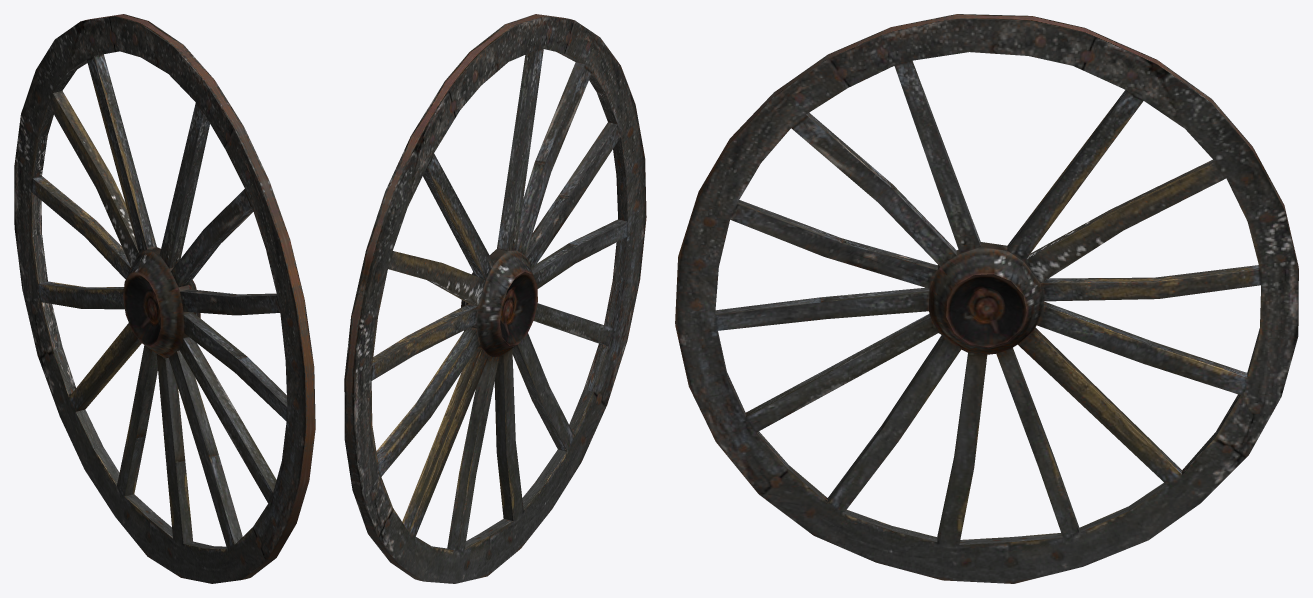
The model's file is Wheel_LOD01.fbx.
The picture shows the model from 3 angles, left to right: view 1: azimuth 30°, elevation 25°; view 2: azimuth 150°, elevation 25°; view 3: azimuth 270°, elevation 25°; orthographic projection. The views are drawn at different scales.
Visible parts, largest first — view 1: Mesh Object; view 2: Mesh Object; view 3: Mesh Object.
Part boxes in pixels (x1,y1,x2,y2): Mesh Object: (14,14,315,583); Mesh Object: (344,14,646,583); Mesh Object: (675,14,1298,583).
Bounding box in the file's own units: 0.0781 × 0.9921 × 0.9921.
